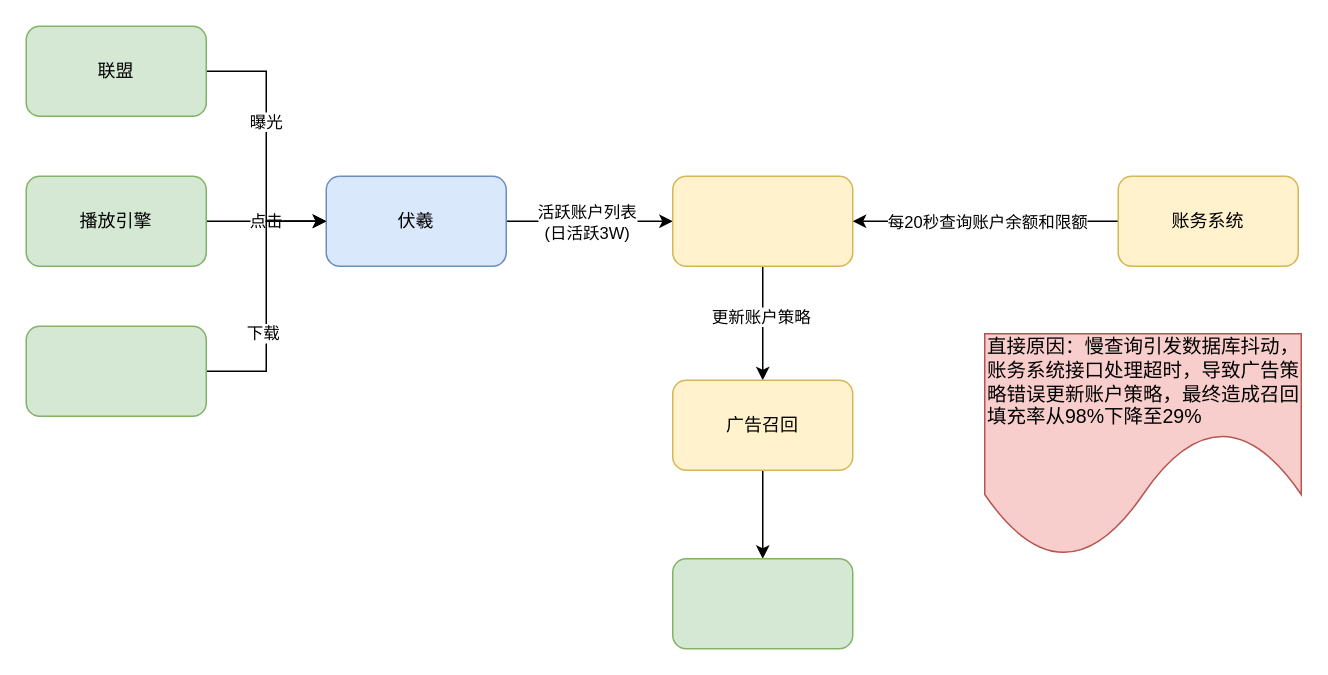
Some shapes in this 1328 by 675 pixel diagram are drawn without their labels. The centre of each missing label's shape, as x and y in pixels:
"广告策略" goes at point (762, 220).
"推理、排序、混排、强规则......" goes at point (762, 603).
"软件商店" goes at point (115, 370).
